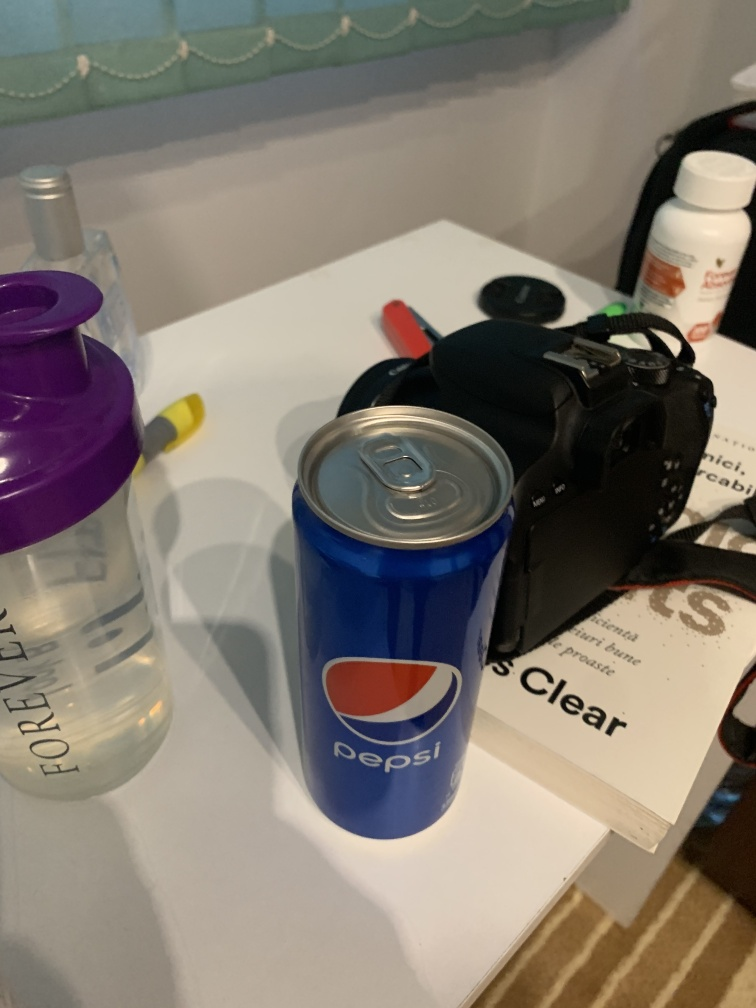pepsi: (288, 395, 518, 838)
